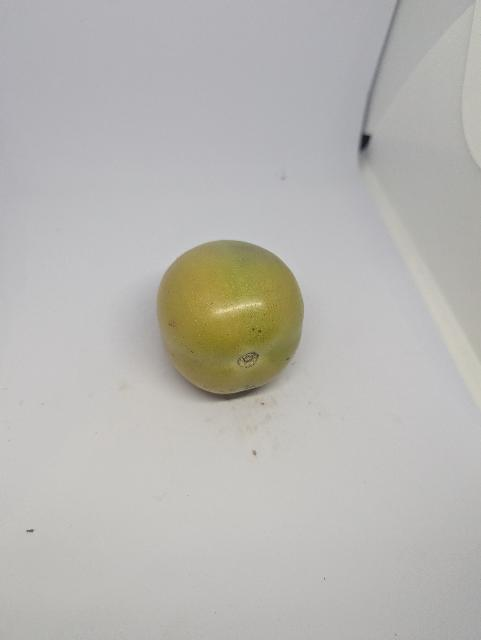breaker: (151, 239, 312, 398)
